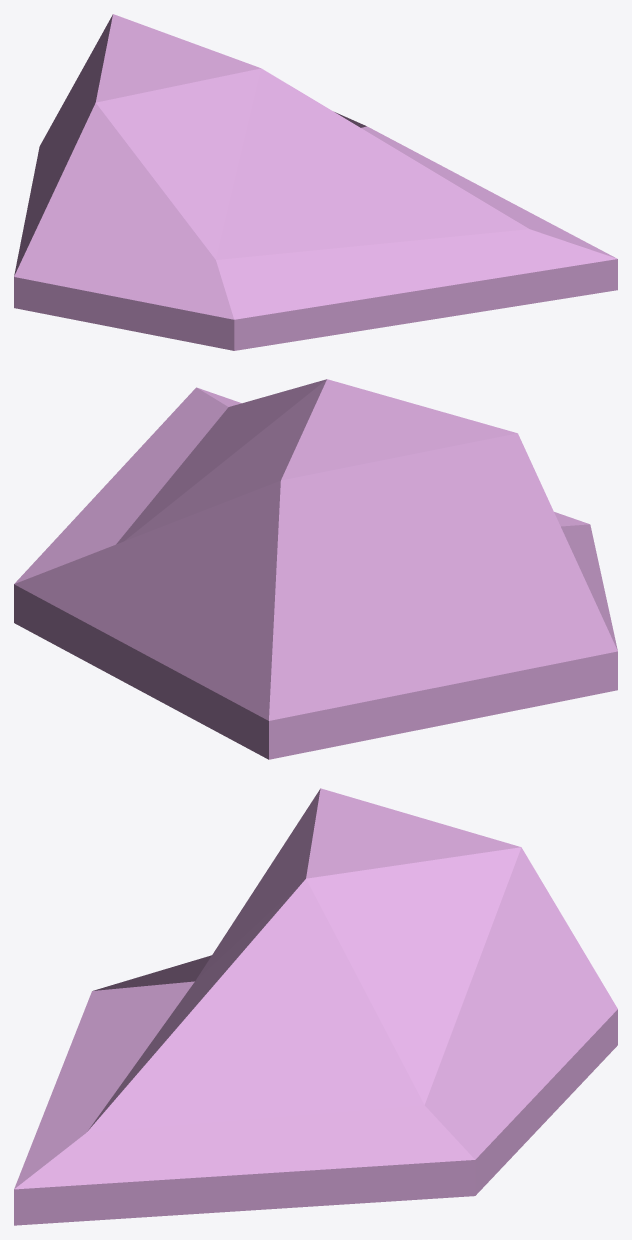
Rendered from rock_6_v1.fbx.
The picture shows the model from 3 angles, top to bottom: view 1: azimuth 30°, elevation 25°; view 2: azimuth 150°, elevation 25°; view 3: azimuth 270°, elevation 25°; orthographic projection. The views are drawn at different scales.
Visible parts, largest first — view 1: rock_6; view 2: rock_6; view 3: rock_6.
Boxes of the visible parts, left/top/right/bottom form: rock_6: left=14, top=14, right=617, bottom=350; rock_6: left=14, top=379, right=617, bottom=759; rock_6: left=14, top=788, right=617, bottom=1225.
Bounding box in the file's own units: 0.5125 × 0.1934 × 0.4898.
